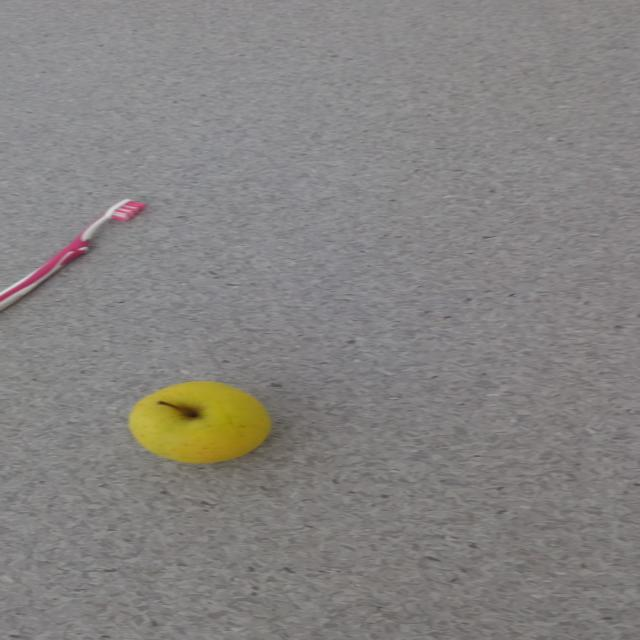apple: (127, 380, 272, 464)
toothbrush: (0, 197, 146, 311)
